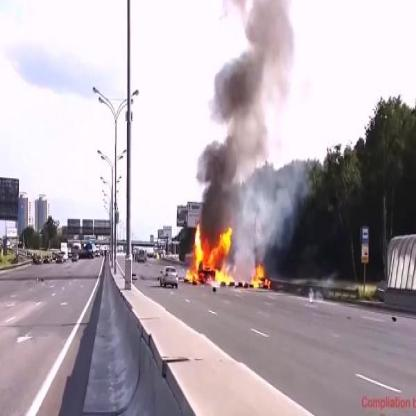fire: (184, 222, 236, 286), (252, 260, 271, 291)
